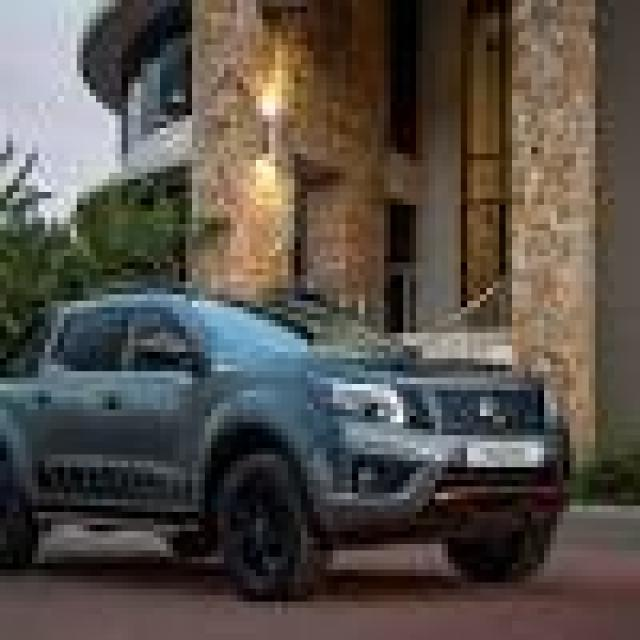Pickup Trucks: (6, 282, 576, 595)
